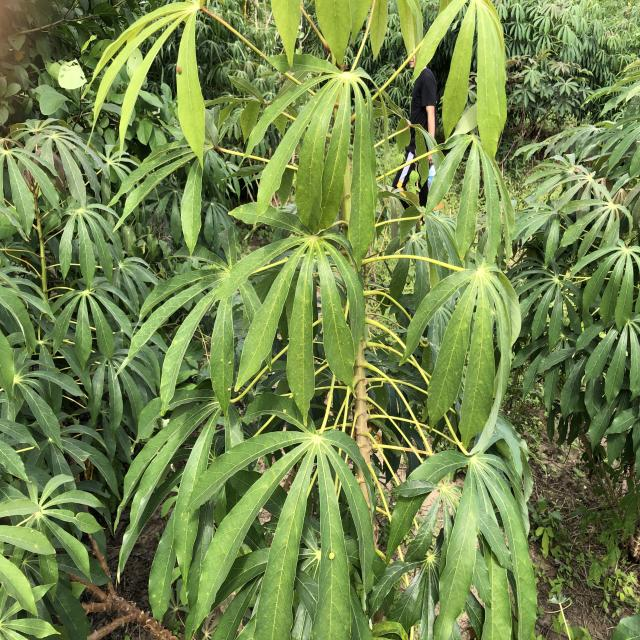Mosca: (275, 403, 291, 419), (324, 547, 339, 562), (169, 63, 186, 76)
